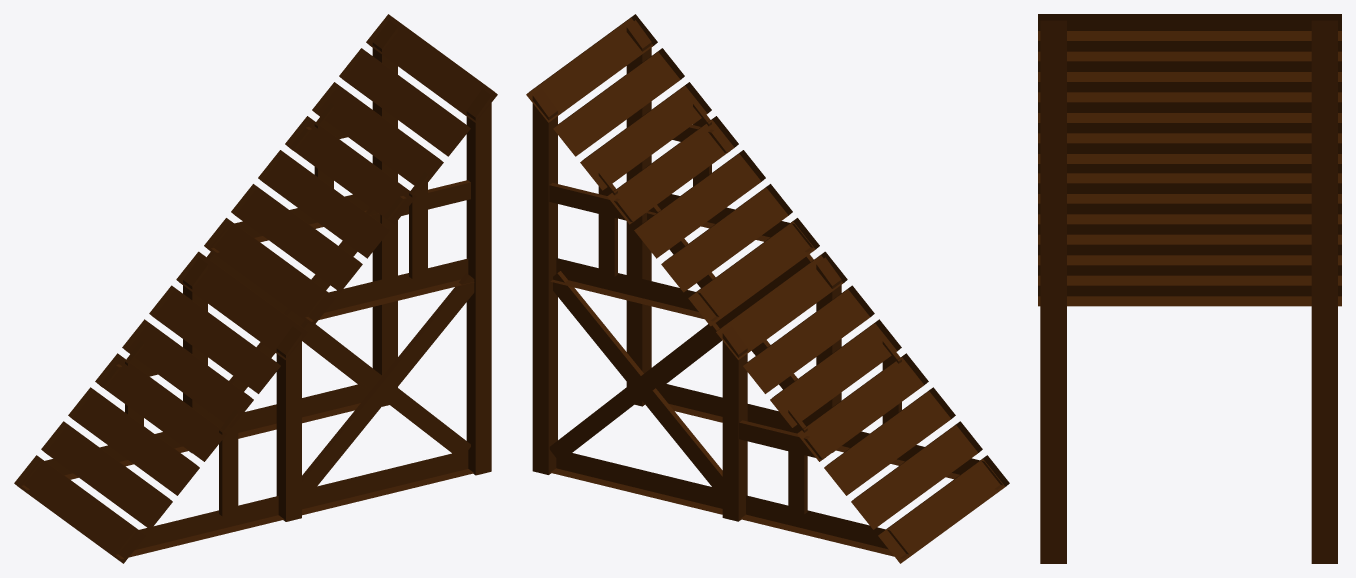
Rendered from Ramp2Pisos.fbx.
3 views of the same model, side by side, from view 1: azimuth 30°, elevation 25°; view 2: azimuth 150°, elevation 25°; view 3: azimuth 270°, elevation 25° (orthographic). The views are drawn at different scales.
Visible parts, largest first — view 1: Ramp; view 2: Ramp; view 3: Ramp.
Part boxes in pixels (left/top/right/bottom): Ramp: left=14, top=14, right=497, bottom=563; Ramp: left=526, top=14, right=1009, bottom=563; Ramp: left=1038, top=14, right=1341, bottom=563.
Size of the model in its own units: 197 by 190 by 94.65.
